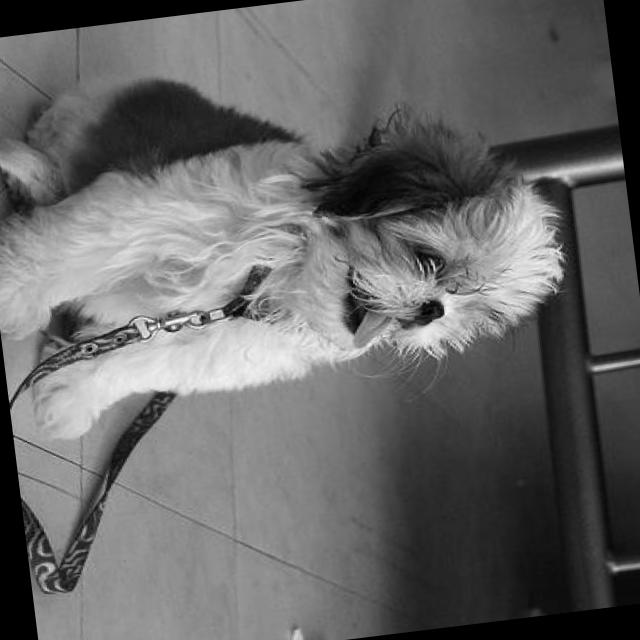sitting: (0, 26, 583, 447)
